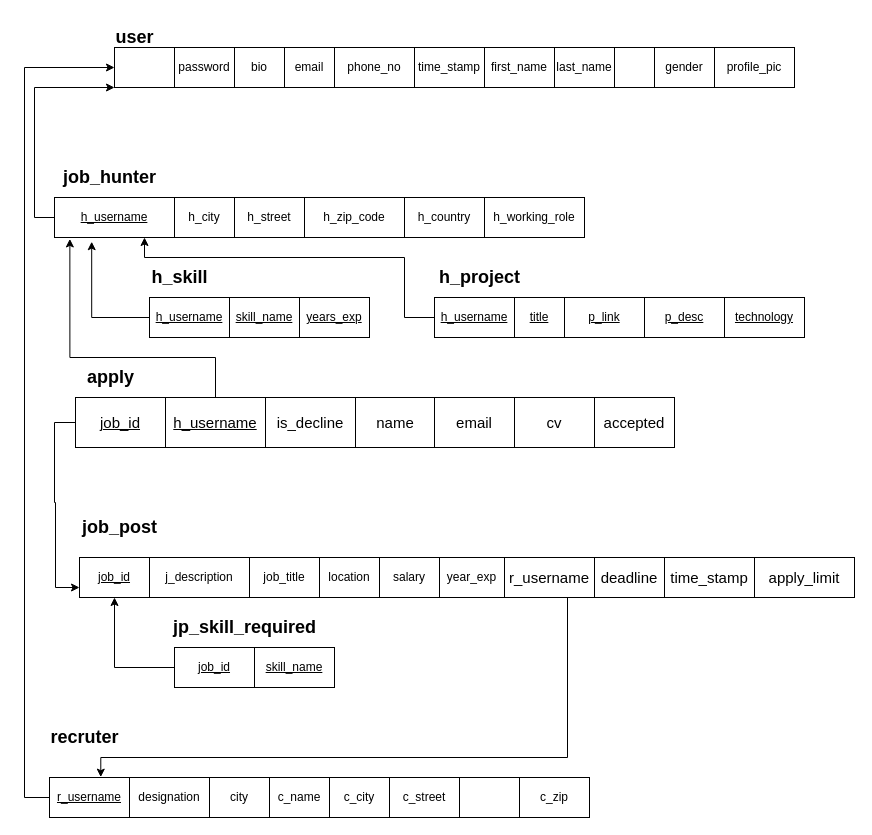
Some shapes in this 872 by 835 pixel diagram are drawn without their labels. The centre of each missing label's shape, as x and y in pixels:
c_country: the point at 489,797
dob: the point at 634,67
username: the point at 144,67
